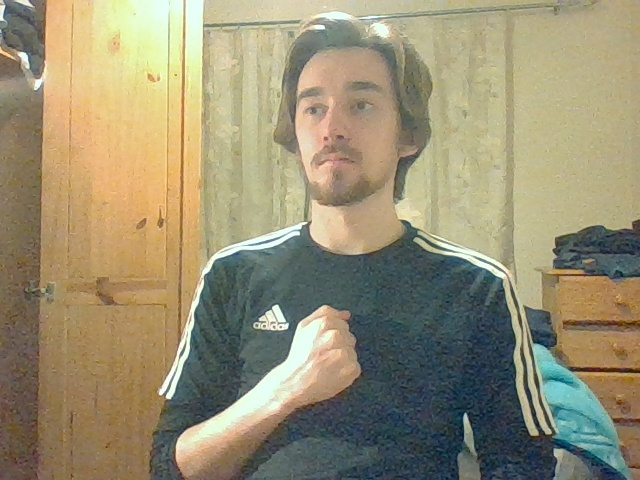my: (291, 304, 362, 399)
